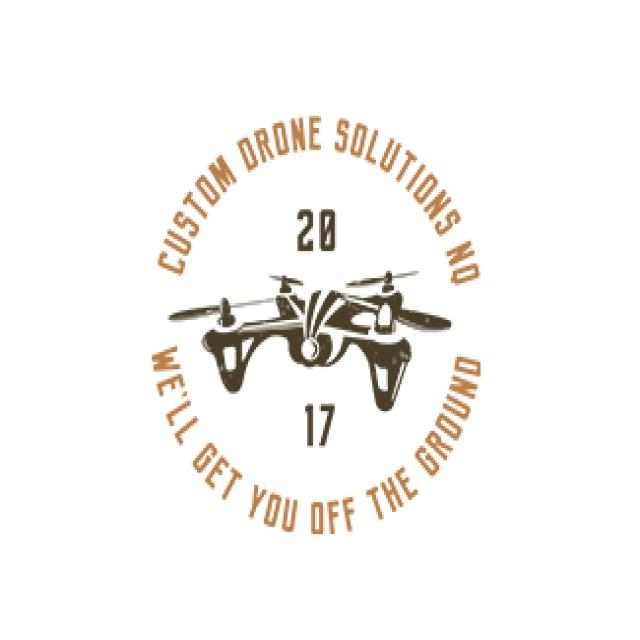drone: (173, 268, 467, 418)
